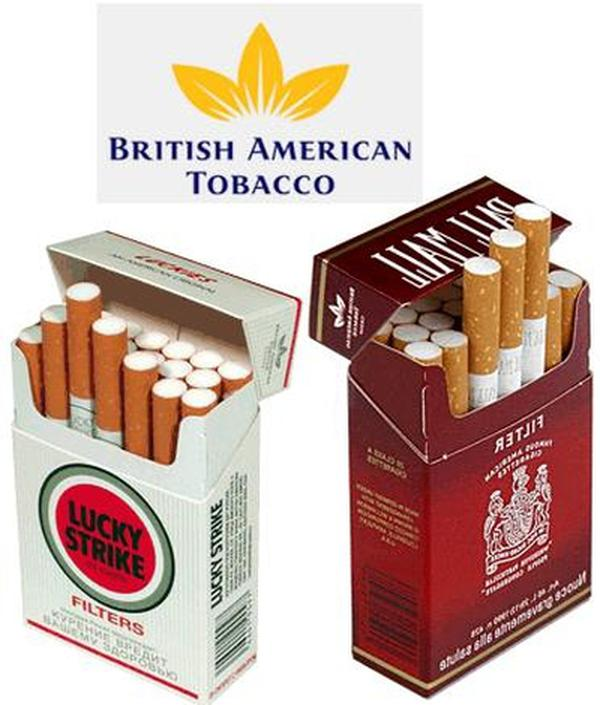lucky_strike_red: (20, 390, 214, 639)
